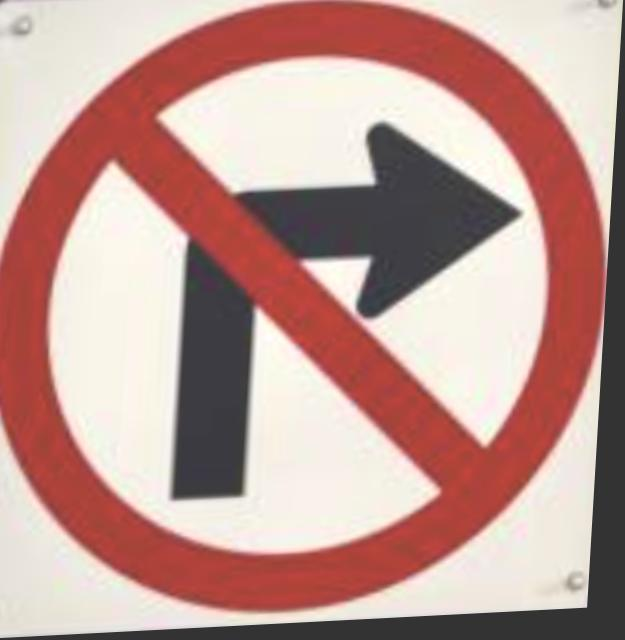not_turn_right: (0, 0, 623, 624)
